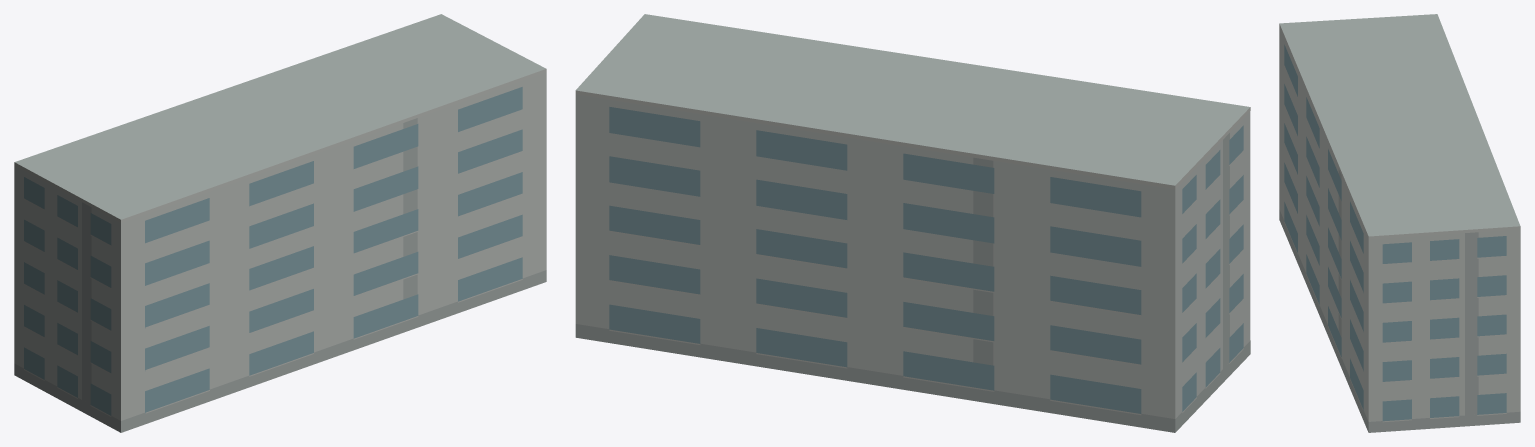
File: residential-9b5a464f-17a7-41d0-8b46-6d118c0e7355.glb
3 views of the same model, side by side, from view 1: azimuth 30°, elevation 25°; view 2: azimuth 150°, elevation 25°; view 3: azimuth 270°, elevation 25° (orthographic). The views are drawn at different scales.
Parts seen in each view (by area): view 1: residential-9b5a464f-17a7-41d0-8b46-6d118c0e7355.tmp; view 2: residential-9b5a464f-17a7-41d0-8b46-6d118c0e7355.tmp; view 3: residential-9b5a464f-17a7-41d0-8b46-6d118c0e7355.tmp.
Boxes of the visible parts, x1,y1,x2,y2 form: residential-9b5a464f-17a7-41d0-8b46-6d118c0e7355.tmp: [14, 14, 546, 432]; residential-9b5a464f-17a7-41d0-8b46-6d118c0e7355.tmp: [575, 14, 1250, 432]; residential-9b5a464f-17a7-41d0-8b46-6d118c0e7355.tmp: [1279, 14, 1520, 432].
Size of the model in its own units: 37.06 by 15.25 by 16.98.
